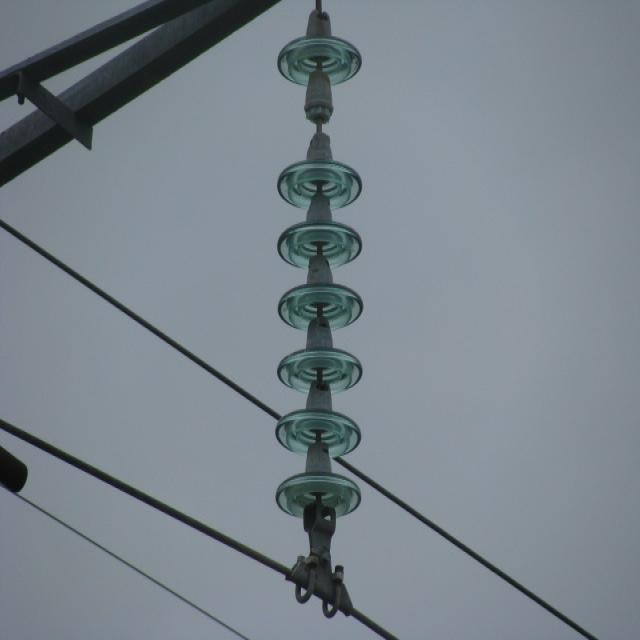正常电缆: (0, 406, 431, 640), (0, 199, 273, 428), (368, 467, 615, 640)
正常绝缘子: (276, 25, 364, 538)
绝缘子破损: (303, 85, 335, 154)
